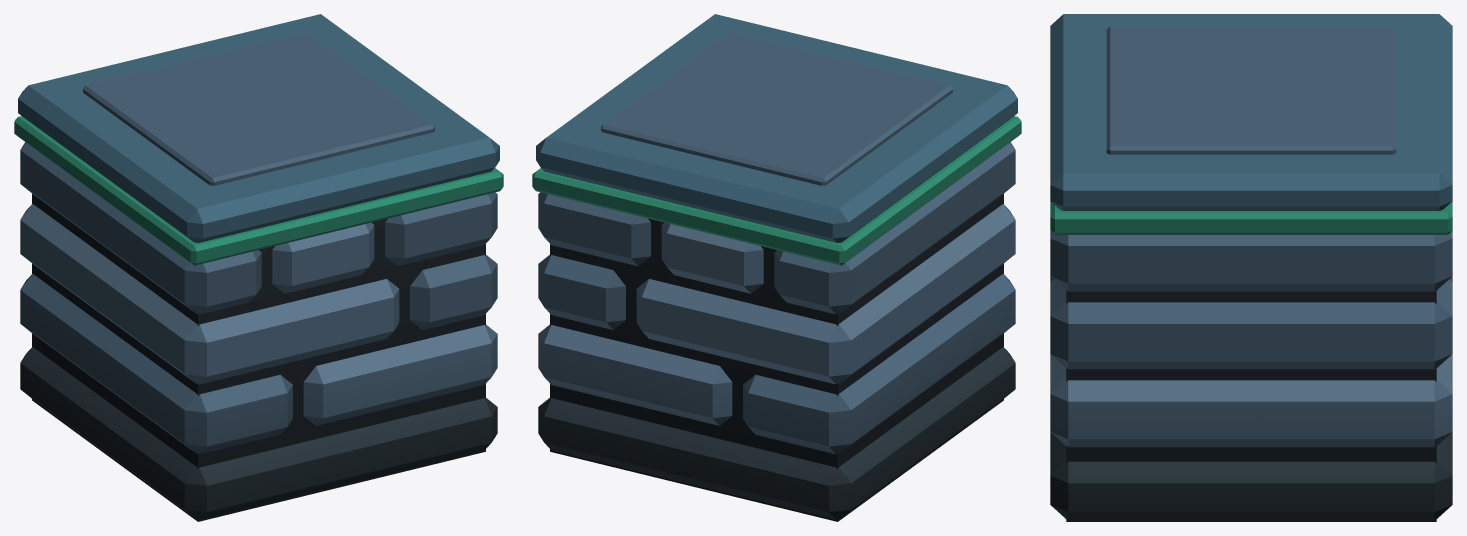
Rendered from sea-stone-wall.glb.
3 views of the same model, side by side, from view 1: azimuth 30°, elevation 25°; view 2: azimuth 150°, elevation 25°; view 3: azimuth 270°, elevation 25° (orthographic). The views are drawn at different scales.
Visible parts, largest first — view 1: mesh_sea_stone_wall; view 2: mesh_sea_stone_wall; view 3: mesh_sea_stone_wall.
Boxes of the visible parts, x1,y1,x2,y2 form: mesh_sea_stone_wall: (14, 14, 503, 521); mesh_sea_stone_wall: (532, 14, 1021, 521); mesh_sea_stone_wall: (1050, 14, 1452, 521).
Bounding box in the file's own units: 1 × 0.98 × 1.
